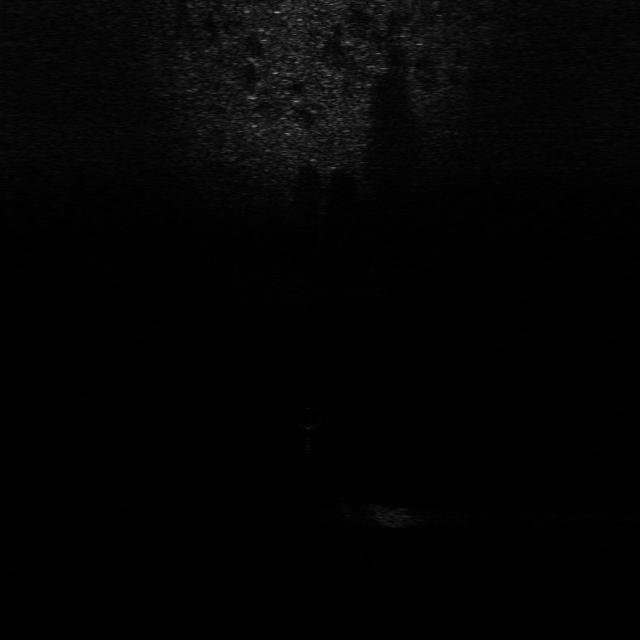ball: (290, 404, 326, 430)
metal bucket: (340, 495, 420, 530)
